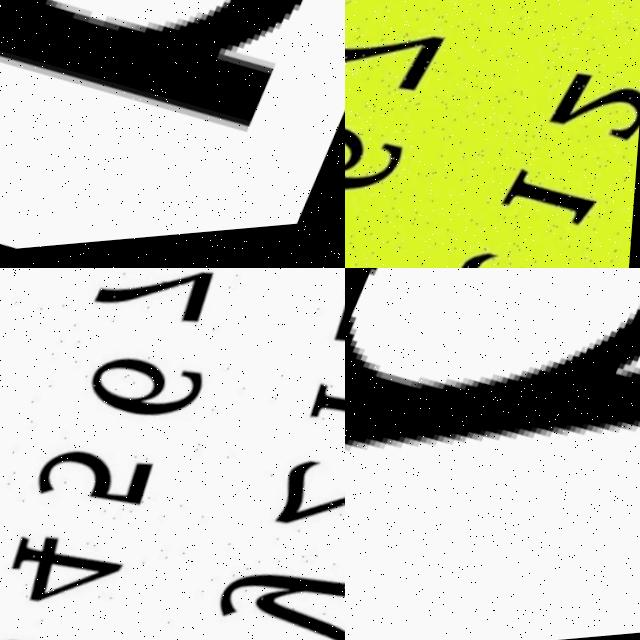1: (490, 152, 625, 264), (293, 360, 345, 477)
2: (528, 57, 640, 187), (309, 269, 345, 402)
4: (0, 501, 162, 640)
5: (15, 408, 190, 558)
6: (65, 318, 244, 469), (345, 89, 440, 239)
7: (71, 268, 255, 374), (345, 0, 481, 136)
P: (345, 268, 640, 454)
